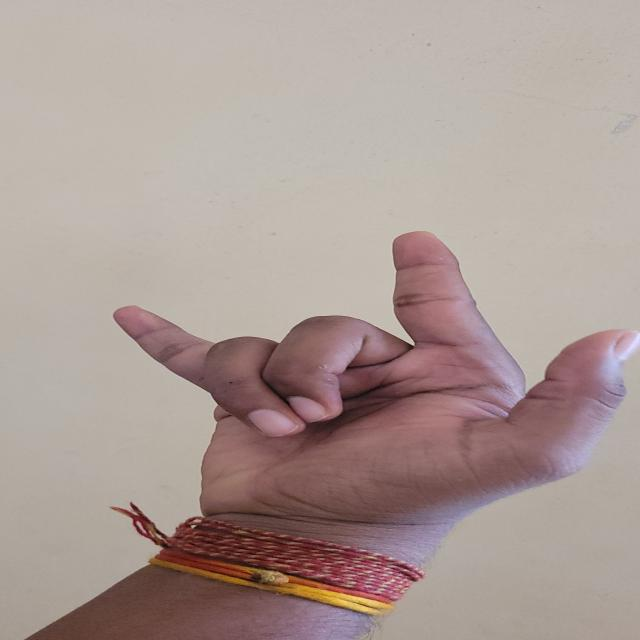i like you: (30, 225, 640, 571)
